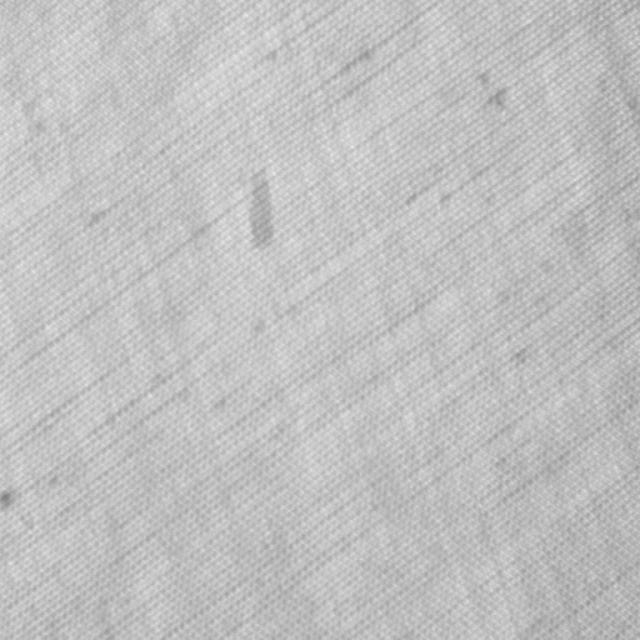oil spot: (248, 165, 272, 251)
